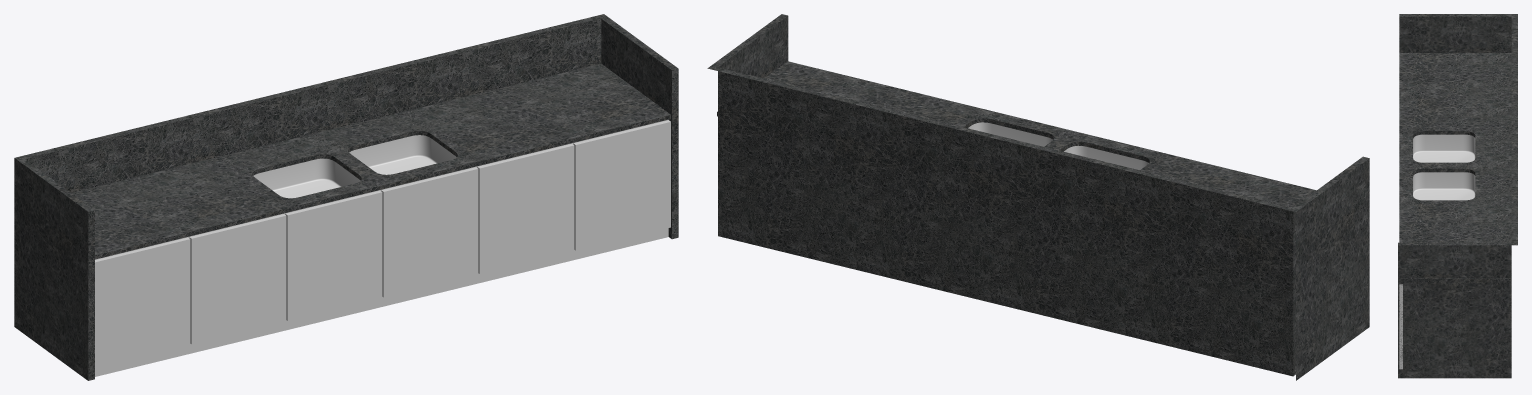
The model's file is KitchenSheleve.fbx.
3 renders of one model, left to right at view 1: azimuth 30°, elevation 25°; view 2: azimuth 150°, elevation 25°; view 3: azimuth 270°, elevation 25°, orthographic. The views are drawn at different scales.
Visible parts, largest first — view 1: Sheleve; view 2: Sheleve; view 3: Sheleve.
Boxes of the visible parts, x1,y1,x2,y2 form: Sheleve: (14,14,678,380); Sheleve: (707,14,1369,380); Sheleve: (1398,14,1517,378).
Bounding box in the file's own units: 438 × 120 × 96.
